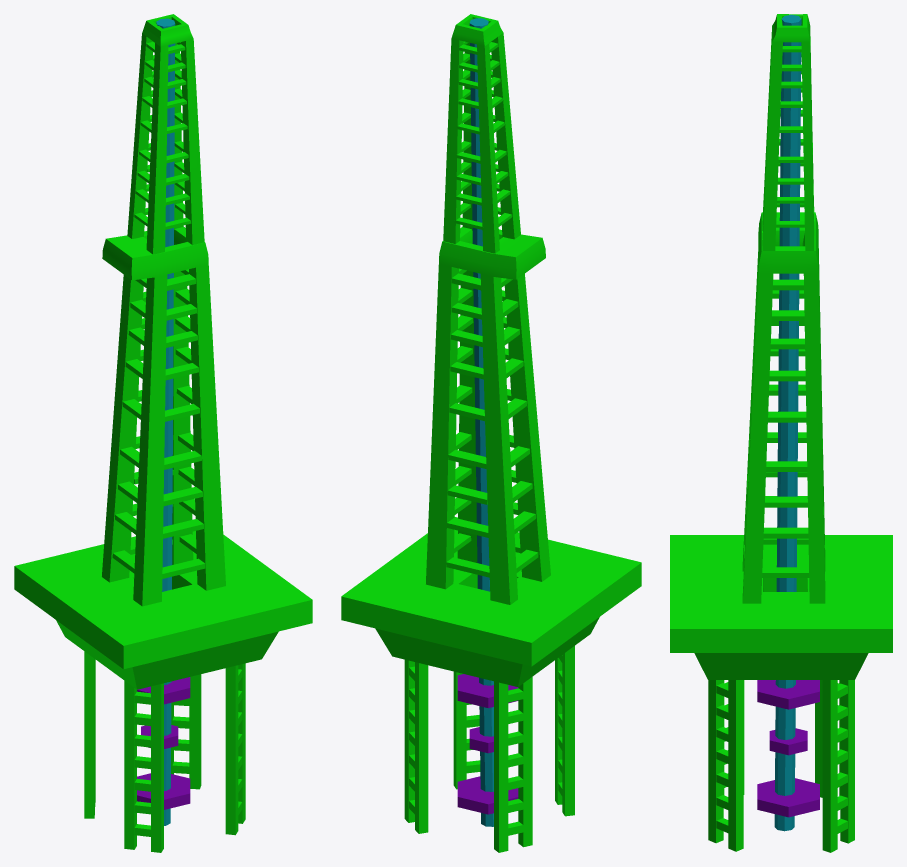
The model's file is OilRig (1).fbx.
The picture shows the model from 3 angles, left to right: view 1: azimuth 30°, elevation 25°; view 2: azimuth 150°, elevation 25°; view 3: azimuth 270°, elevation 25°; orthographic projection. The views are drawn at different scales.
Parts seen in each view (by area): view 1: Rig, Drill; view 2: Rig, Drill; view 3: Rig, Drill.
Part boxes in pixels (bbox=[...]): Rig: bbox=[14, 14, 312, 852]; Drill: bbox=[137, 18, 190, 825]; Rig: bbox=[341, 14, 641, 852]; Drill: bbox=[457, 18, 518, 826]; Rig: bbox=[670, 14, 892, 852]; Drill: bbox=[757, 14, 819, 831].
Size of the model in its own units: 99.56 by 400 by 99.56.
